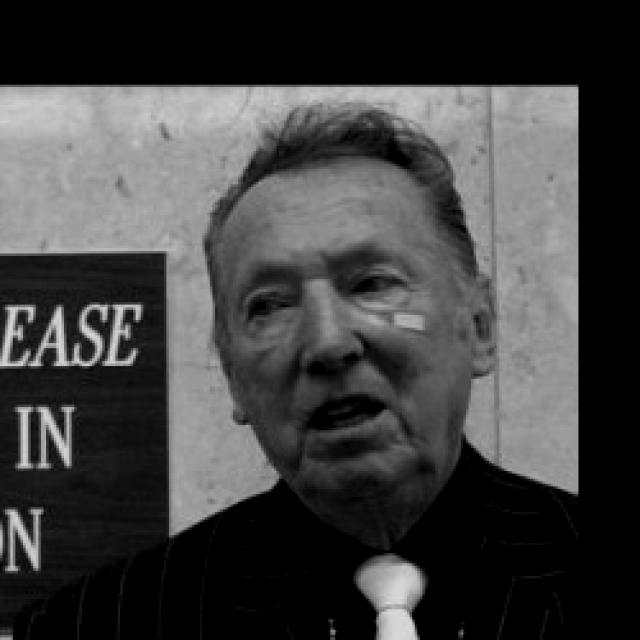real: (204, 144, 471, 510), (230, 265, 445, 345)
